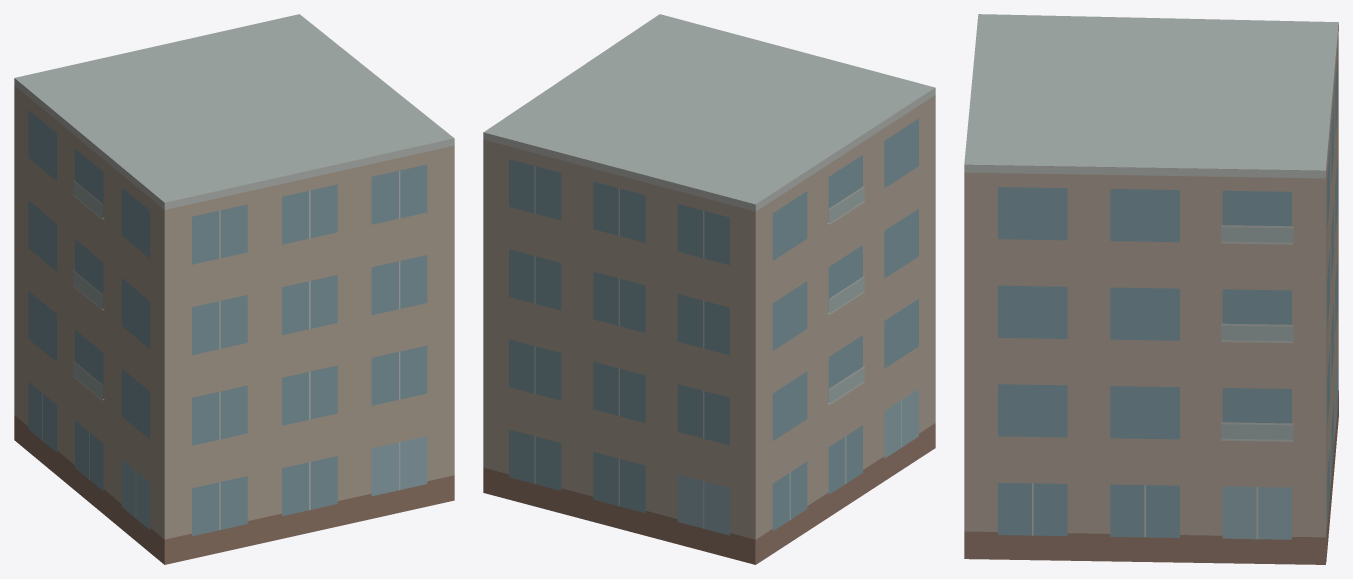
The model's file is survey-upis-32940129.glb.
3 views of the same model, side by side, from view 1: azimuth 30°, elevation 25°; view 2: azimuth 150°, elevation 25°; view 3: azimuth 270°, elevation 25° (orthographic). The views are drawn at different scales.
Visible parts, largest first — view 1: survey-upis-32940129.tmp; view 2: survey-upis-32940129.tmp; view 3: survey-upis-32940129.tmp.
Boxes of the visible parts, x1,y1,x2,y2 form: survey-upis-32940129.tmp: [14, 14, 454, 564]; survey-upis-32940129.tmp: [483, 14, 935, 564]; survey-upis-32940129.tmp: [964, 14, 1338, 564].
Size of the model in its own units: 10.4 by 12.2 by 10.51.
